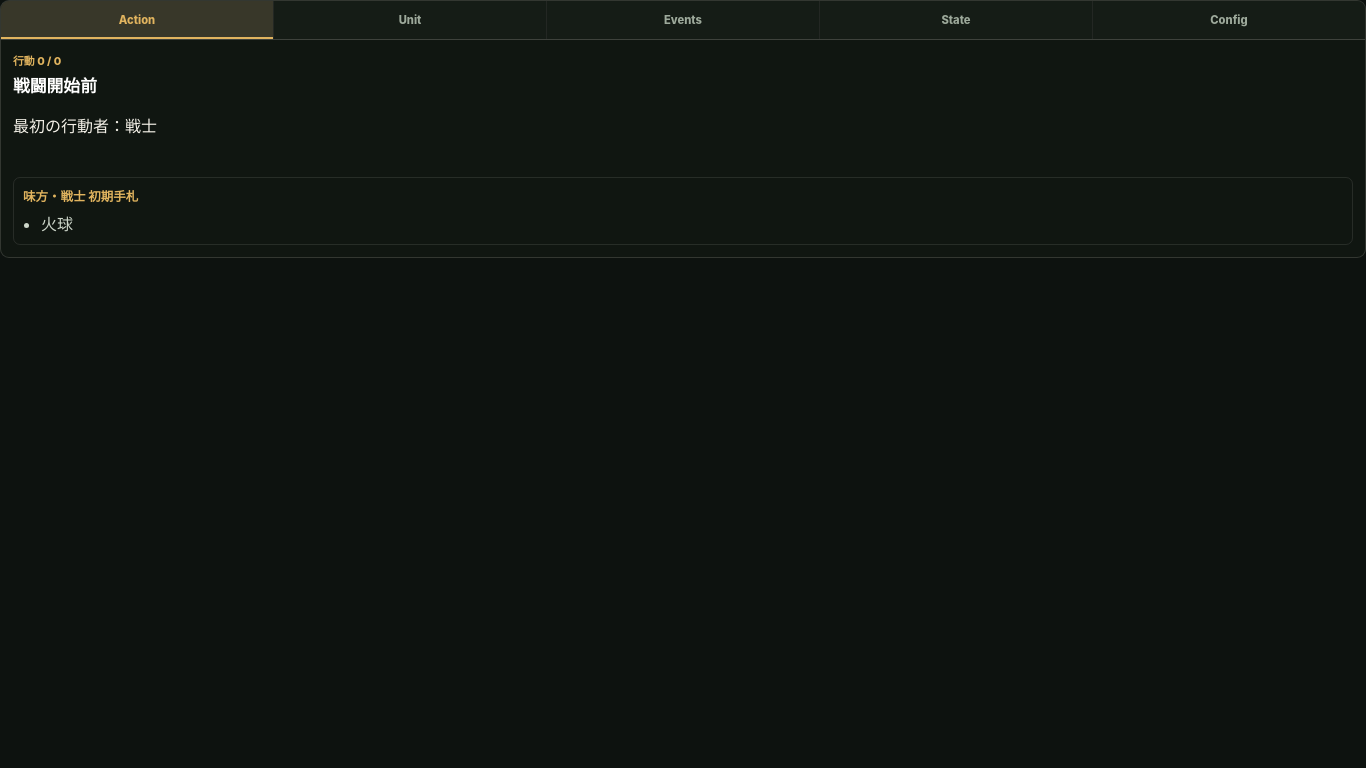
Test: ReplayInspector › renders current snapshot as state JSON
The width and height of the screenshot is (1366, 768).
What coordinates should you click on to do the following:
click the button "State"
I would click on:
 (956, 20)
Its box is [820,1,1092,39].
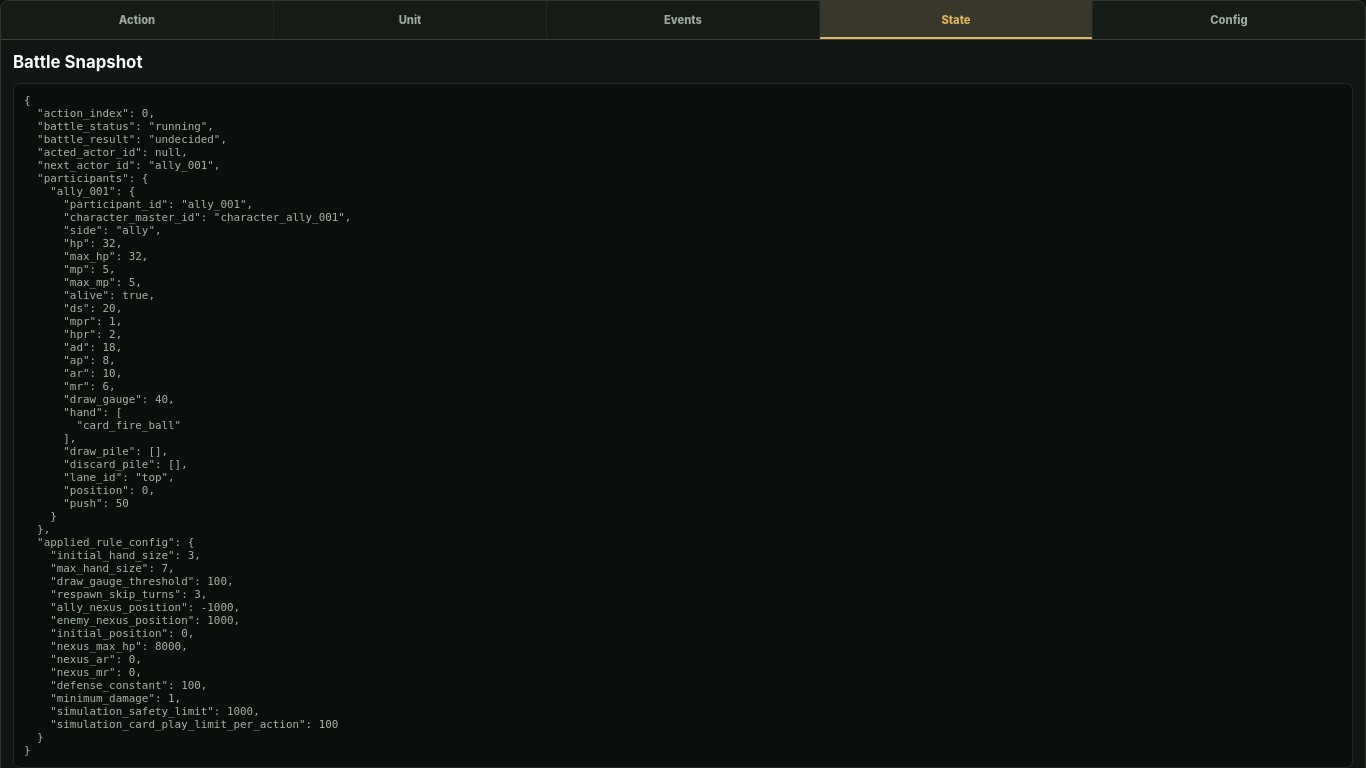
Result: the element with class "state-inspector" shows "\"action_index\": 0" at [24,94,351,757]
Result: the element with class "state-inspector" shows "\"participant_id\": \"ally_001\"" at [24,94,351,757]
